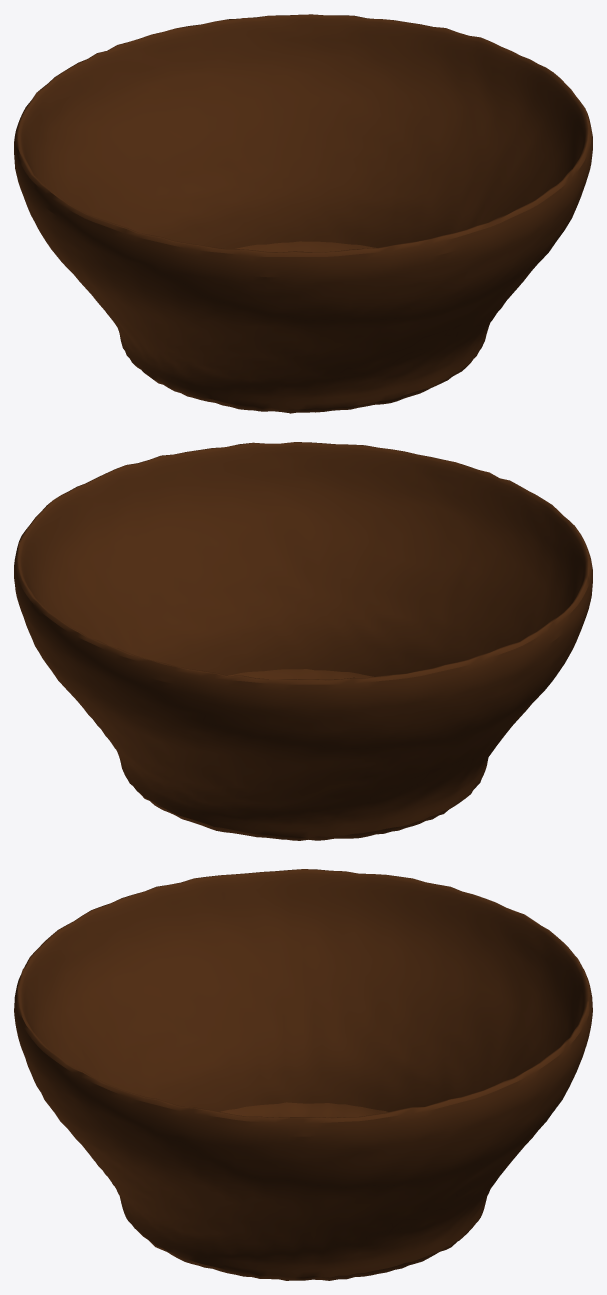
File: wadah rotan 2.fbx
The picture shows the model from 3 angles, top to bottom: view 1: azimuth 30°, elevation 25°; view 2: azimuth 150°, elevation 25°; view 3: azimuth 270°, elevation 25°; orthographic projection. The views are drawn at different scales.
Visible parts, largest first — view 1: Circle.003; view 2: Circle.003; view 3: Circle.003.
Part boxes in pixels (box(x1,y1,x2,y2)): Circle.003: box(14, 14, 592, 413); Circle.003: box(14, 442, 592, 840); Circle.003: box(14, 869, 592, 1280).
Size of the model in its own units: 692 by 288 by 672.
Materials: 1 (1 with a texture image).
